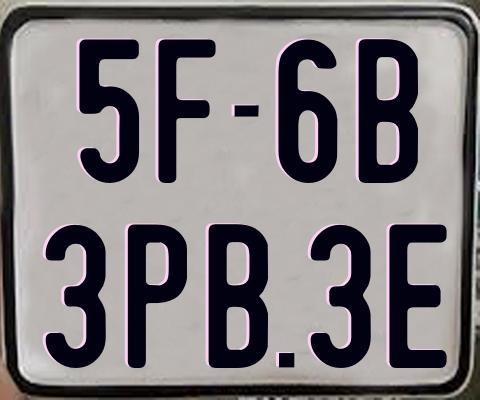3: (311, 222, 375, 365), (45, 222, 108, 365)
5: (77, 38, 138, 182)
6: (278, 38, 344, 187)
B: (358, 36, 423, 186), (207, 223, 268, 369)
E: (389, 223, 450, 371)
F: (158, 37, 217, 187)
P: (127, 221, 186, 368)
